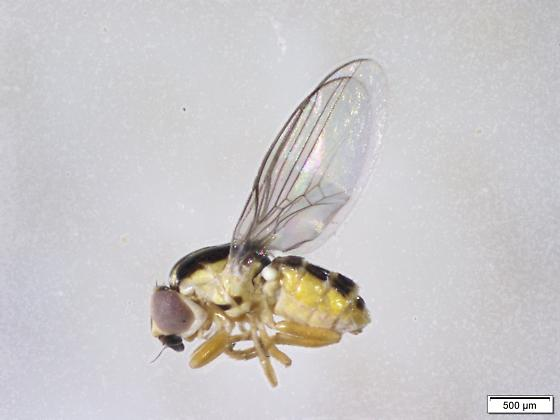Chloropidae: (144, 55, 394, 391)
